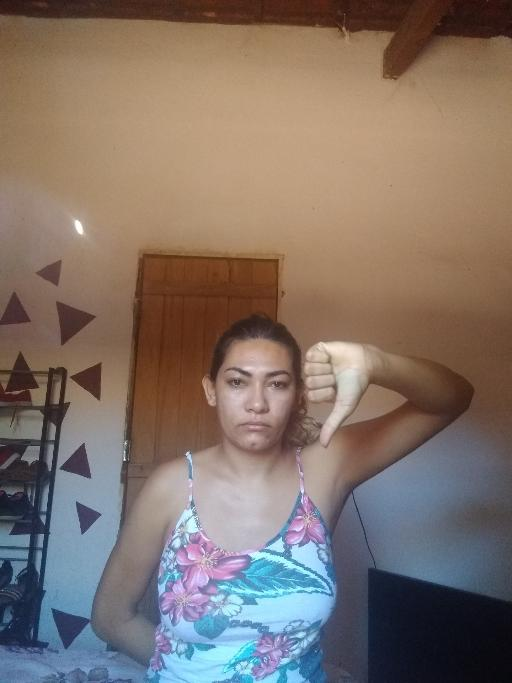dislike: (301, 337, 380, 448)
